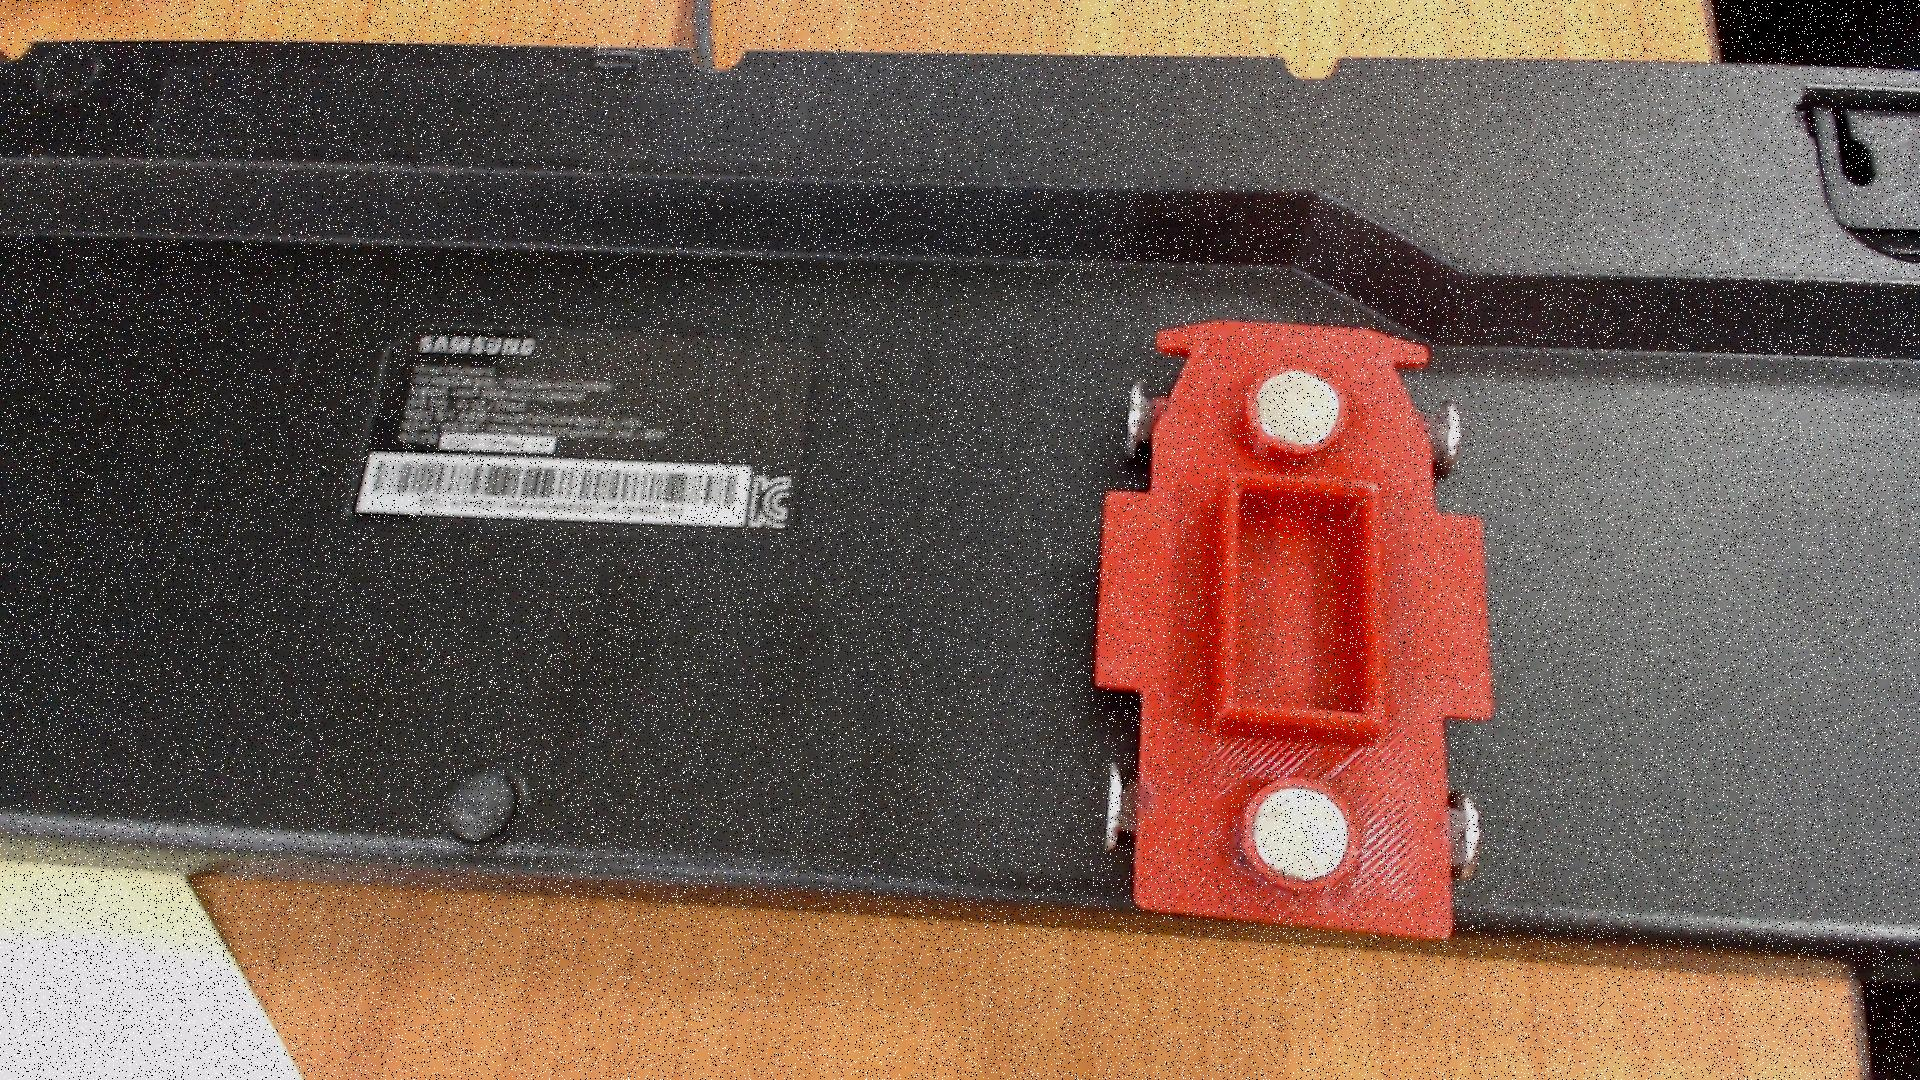lower_ok: (1200, 469, 1410, 756)
